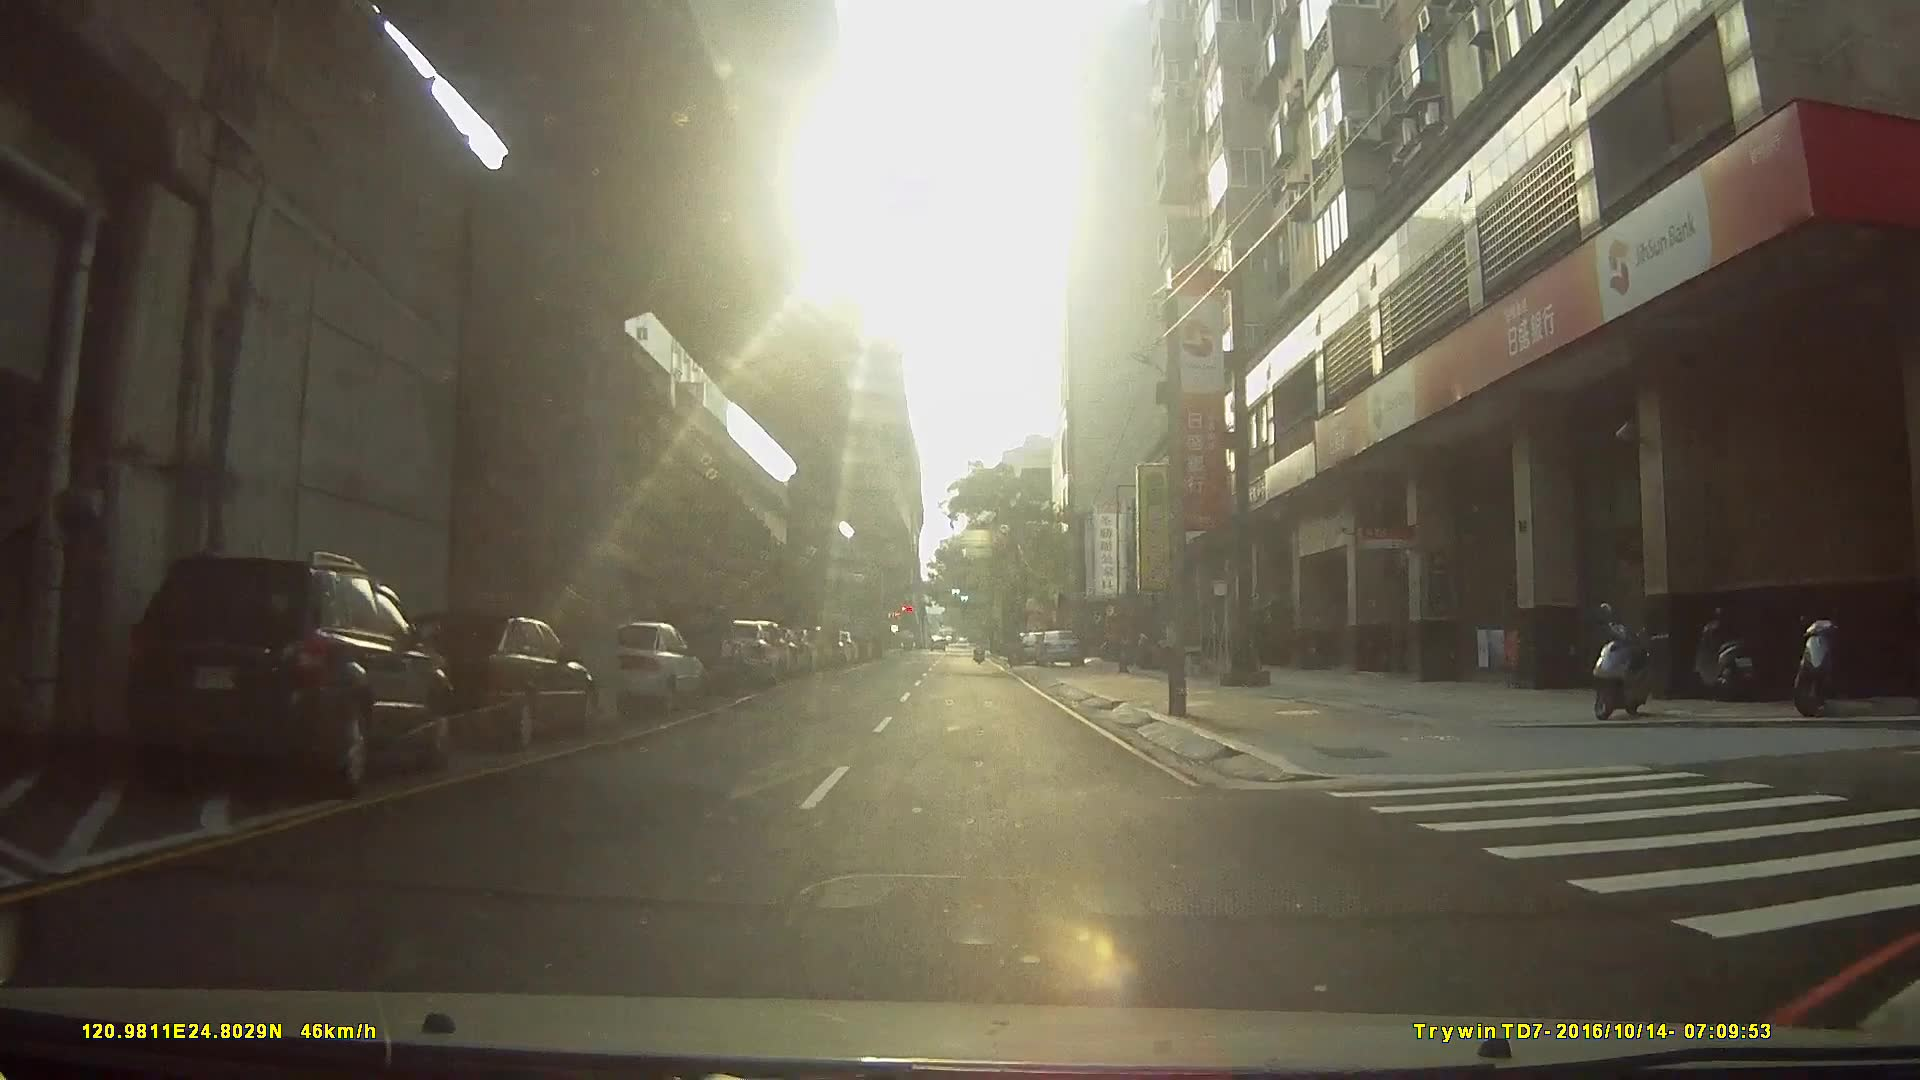vehicle: (119, 550, 450, 800), (396, 609, 597, 752), (593, 618, 709, 719), (659, 620, 794, 670), (1030, 626, 1083, 669)
